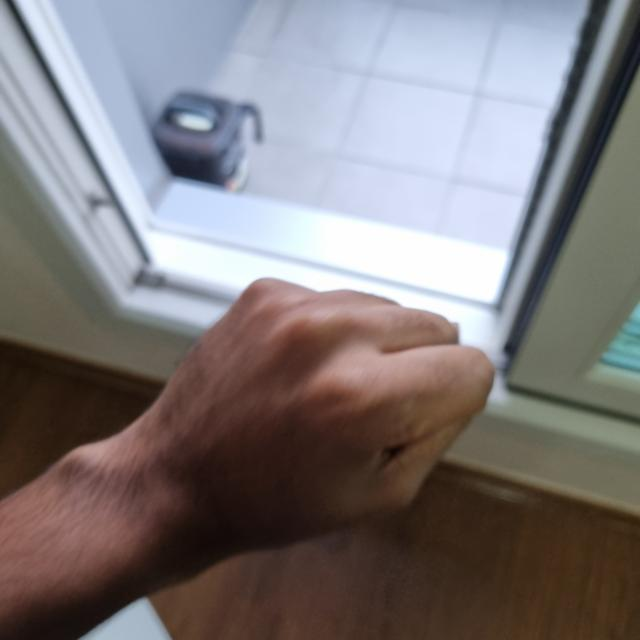Rock: (127, 281, 487, 550)
